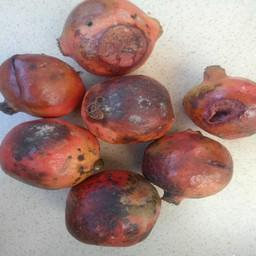Bad_pomegranate: (64, 168, 169, 250), (55, 0, 165, 75), (3, 117, 104, 191), (83, 73, 175, 144), (151, 132, 232, 209), (182, 57, 255, 141), (0, 48, 84, 118)
